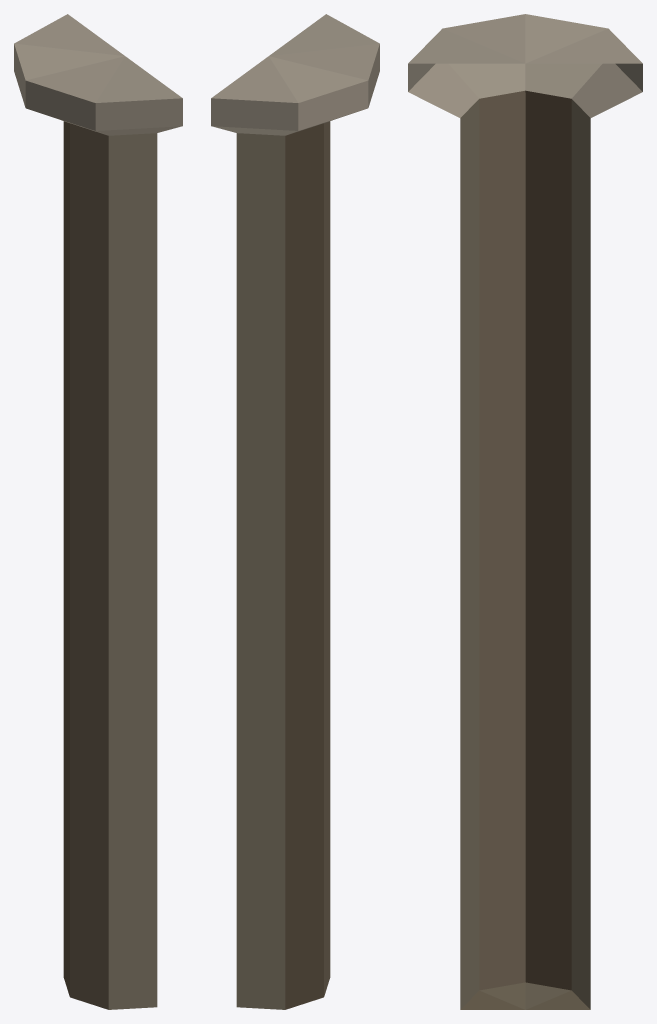
The model's file is Wall_A-End.fbx.
3 views of the same model, side by side, from view 1: azimuth 30°, elevation 25°; view 2: azimuth 150°, elevation 25°; view 3: azimuth 270°, elevation 25° (orthographic). The views are drawn at different scales.
Parts seen in each view (by area): view 1: Wall_A-End; view 2: Wall_A-End; view 3: Wall_A-End.
Boxes of the visible parts, x1,y1,x2,y2 form: Wall_A-End: (14, 14, 182, 1009); Wall_A-End: (211, 14, 379, 1009); Wall_A-End: (408, 14, 642, 1009).
Bounding box in the file's own units: 22.5 × 200 × 45.
